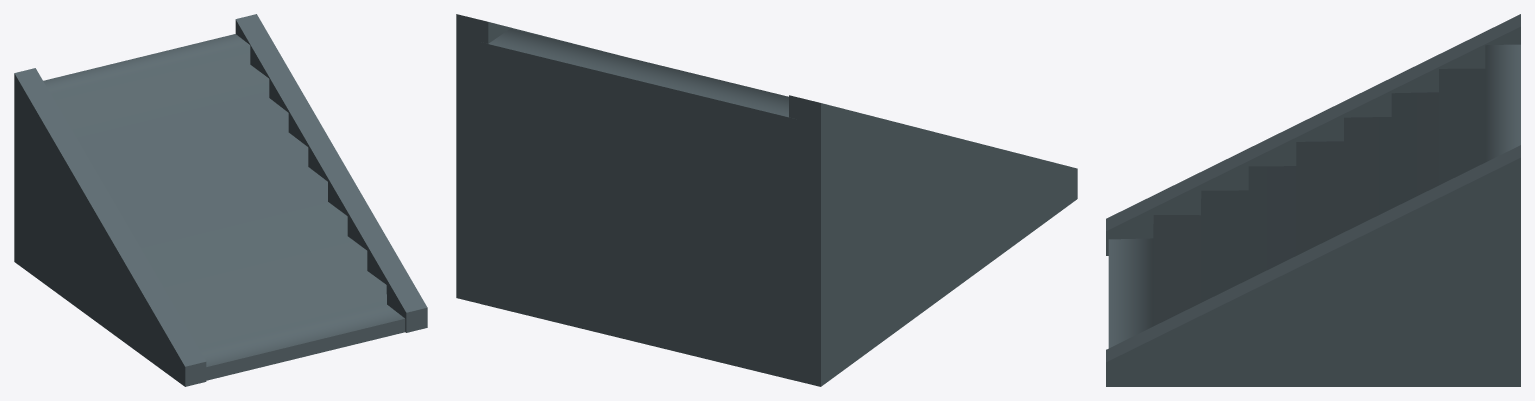
Rendered from Stairs 01.FBX.
3 renders of one model, left to right at view 1: azimuth 30°, elevation 25°; view 2: azimuth 150°, elevation 25°; view 3: azimuth 270°, elevation 25°, orthographic. The views are drawn at different scales.
Visible parts, largest first — view 1: Stairs 01; view 2: Stairs 01; view 3: Stairs 01.
Part boxes in pixels (left/top/right/bottom): Stairs 01: left=14, top=14, right=427, bottom=386; Stairs 01: left=456, top=14, right=1077, bottom=386; Stairs 01: left=1106, top=14, right=1520, bottom=386.
Bounding box in the file's own units: 281 × 209 × 343.
